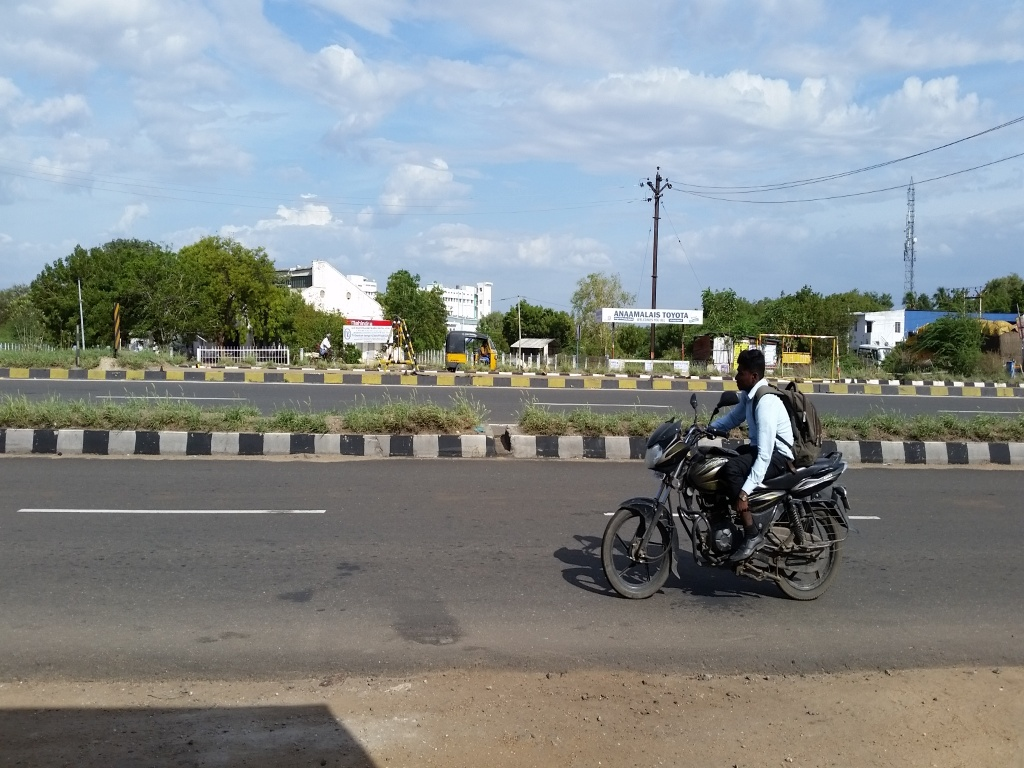biker: (564, 317, 887, 611)
nohelmet: (727, 345, 777, 401)
